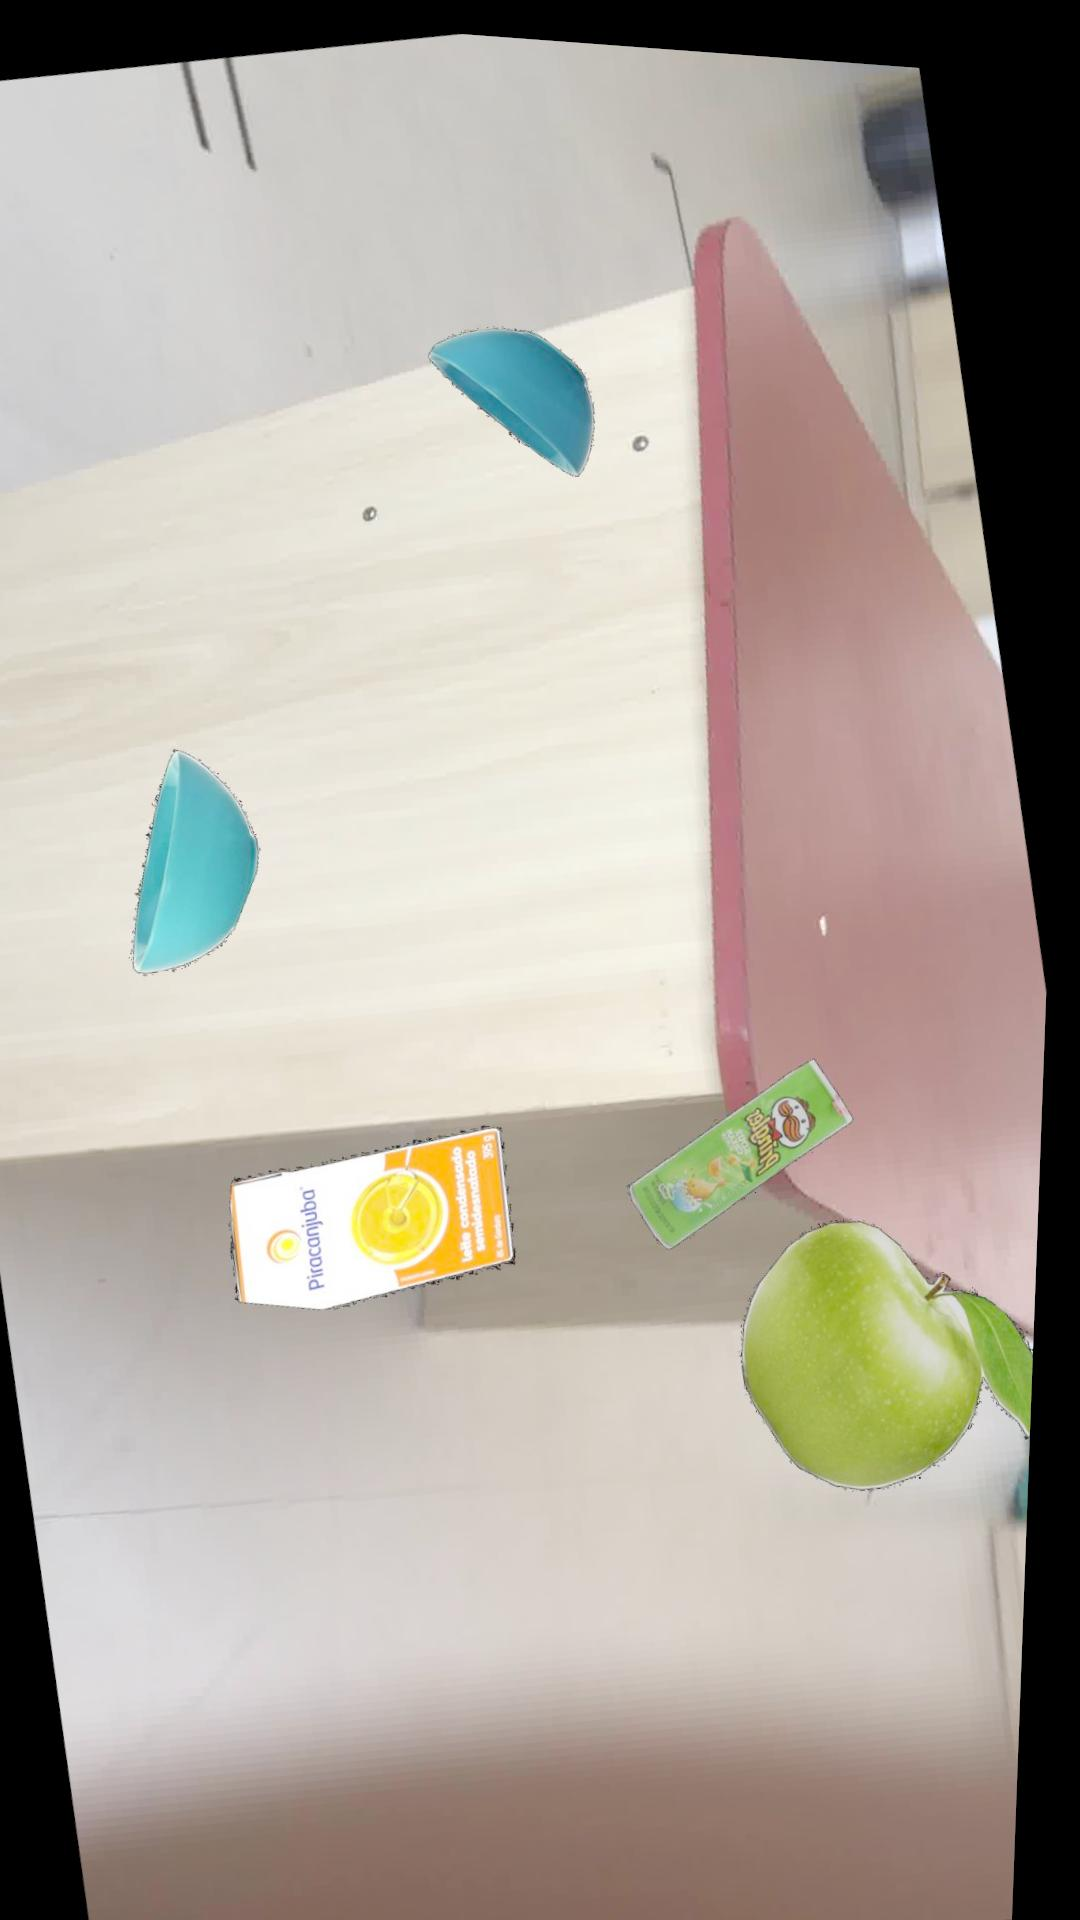bowl: (137, 746, 264, 972), (429, 320, 596, 468)
green apple: (748, 1207, 1043, 1477)
pringles: (636, 1046, 860, 1240)
